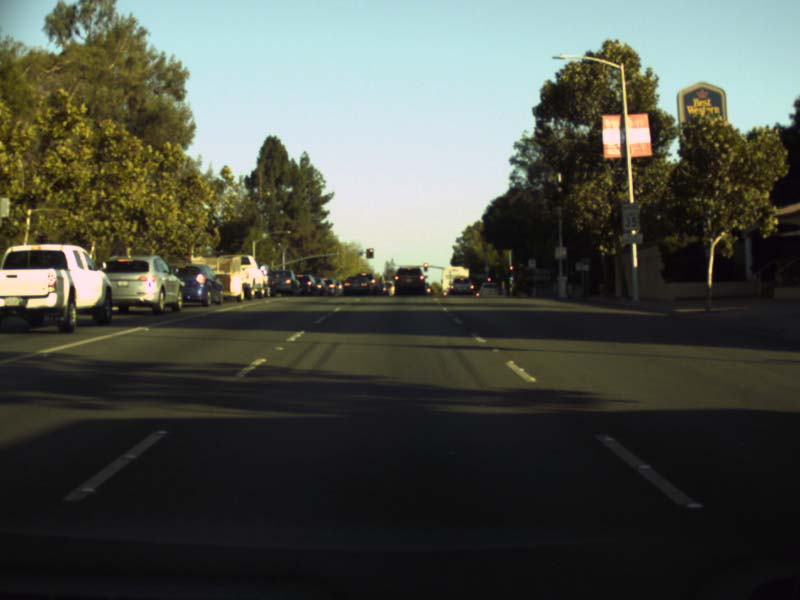Red: (367, 248, 373, 257), (423, 262, 427, 270), (486, 276, 491, 281), (508, 266, 514, 270)
